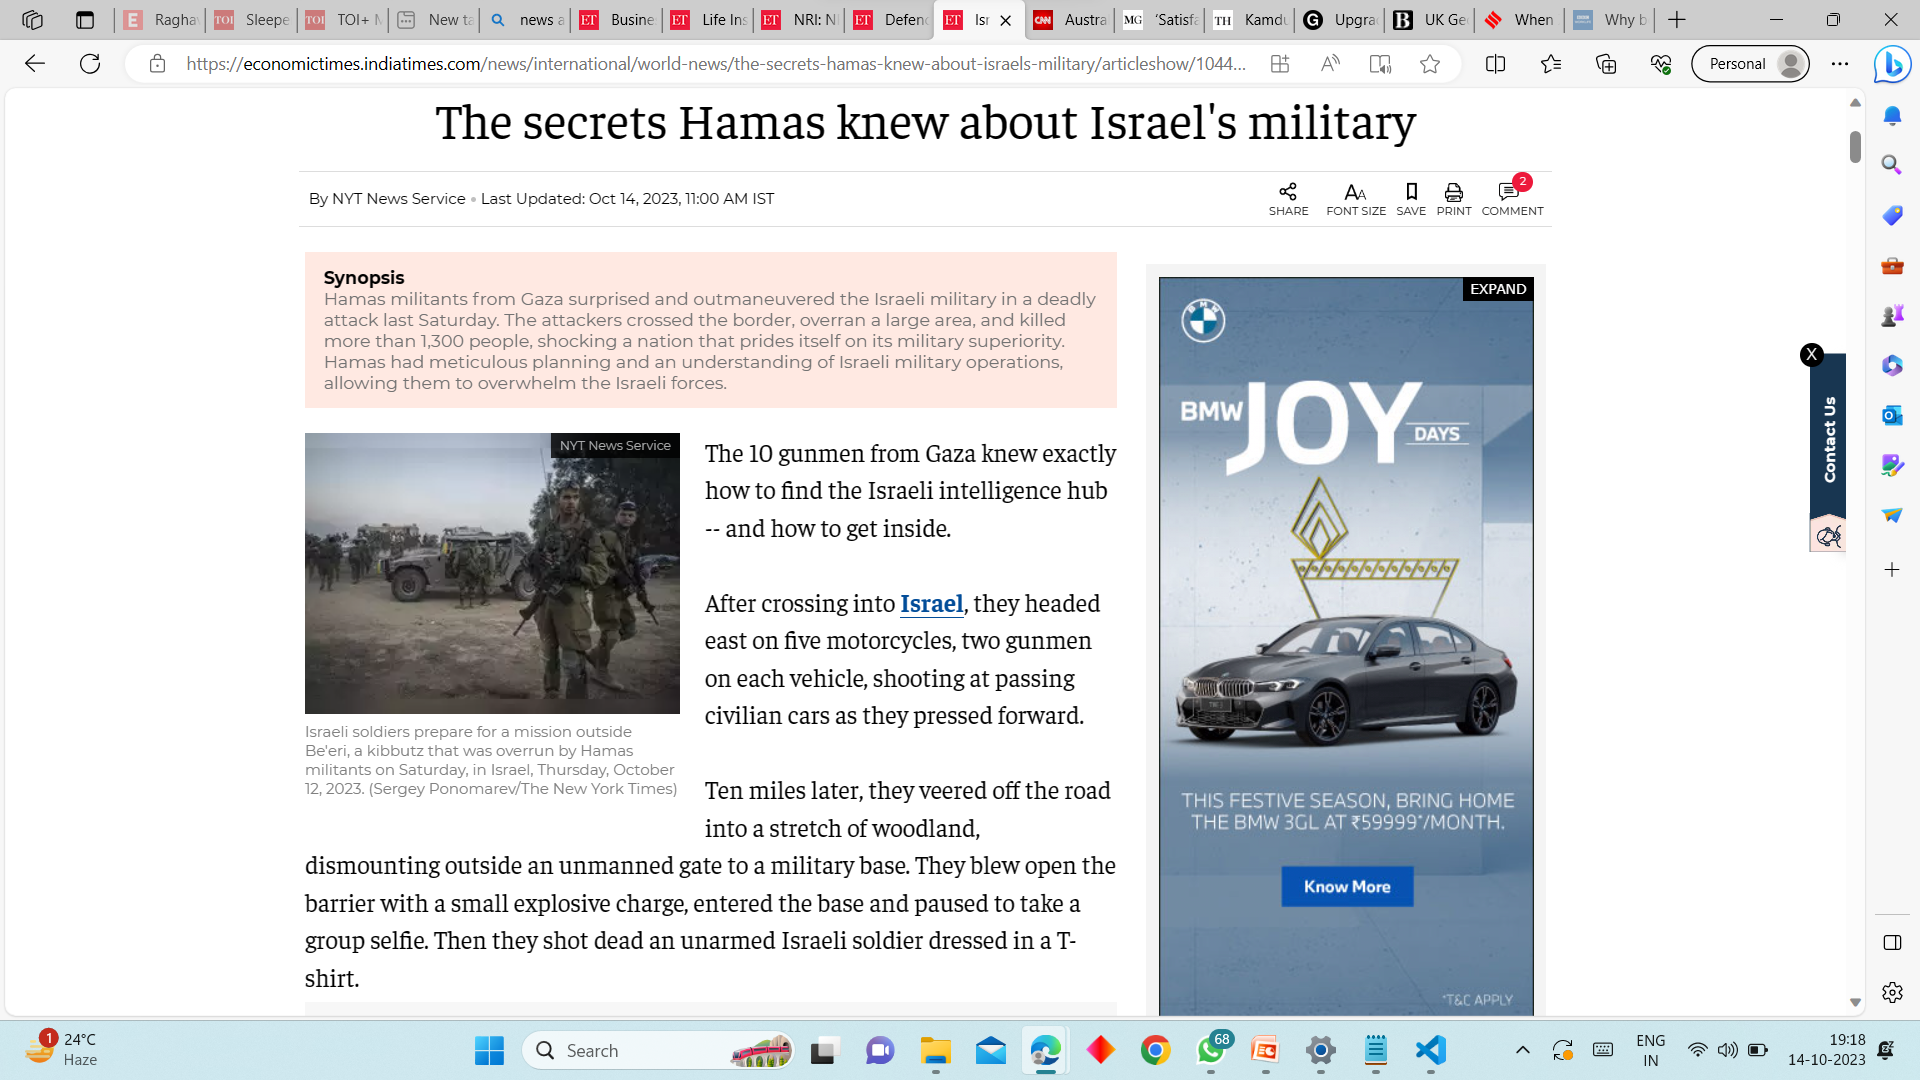Image: (1147, 261, 1532, 1013), (309, 431, 684, 717)
Paragraph: (306, 841, 1113, 997), (319, 289, 1105, 396), (438, 100, 1436, 164), (702, 584, 1118, 729), (691, 431, 1131, 546), (309, 720, 687, 807), (702, 775, 1121, 852), (322, 261, 438, 289)
